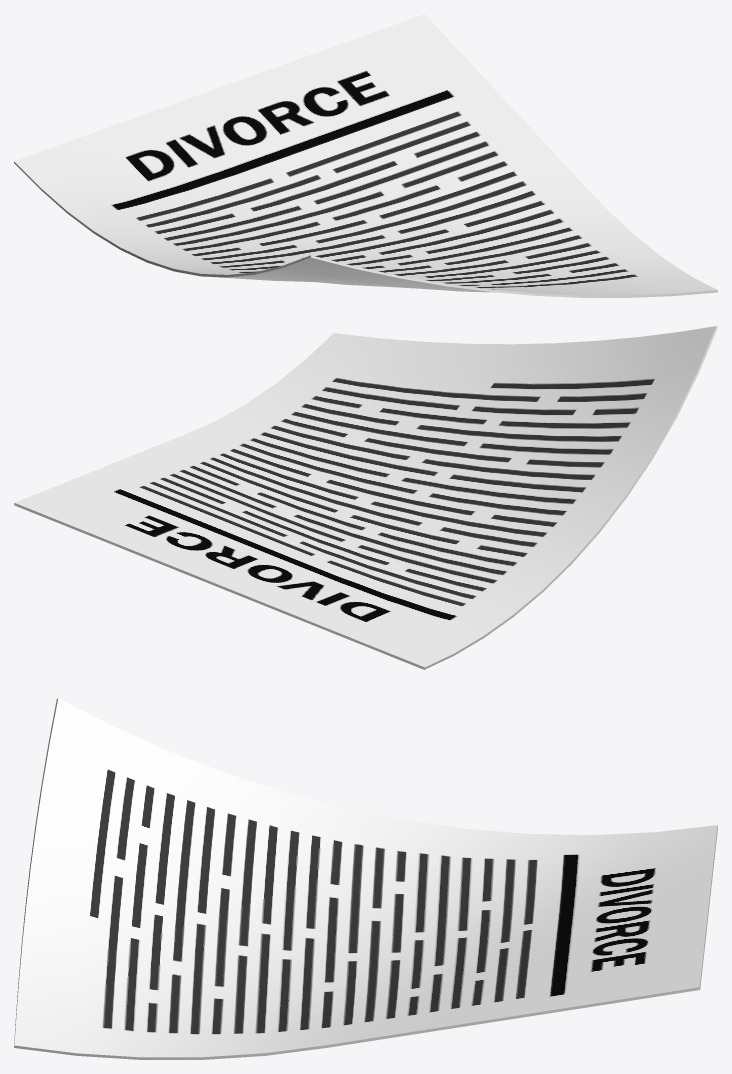
File: ThrownPaper1.fbx
The picture shows the model from 3 angles, top to bottom: view 1: azimuth 30°, elevation 25°; view 2: azimuth 150°, elevation 25°; view 3: azimuth 270°, elevation 25°; orthographic projection. The views are drawn at different scales.
Visible parts, largest first — view 1: pCube18; view 2: pCube18; view 3: pCube18.
Part boxes in pixels (x1,y1,x2,y2): pCube18: (14, 14, 717, 297); pCube18: (14, 326, 717, 669); pCube18: (14, 698, 717, 1059).
Bounding box in the file's own units: 0.8527 × 0.2546 × 1.12.
